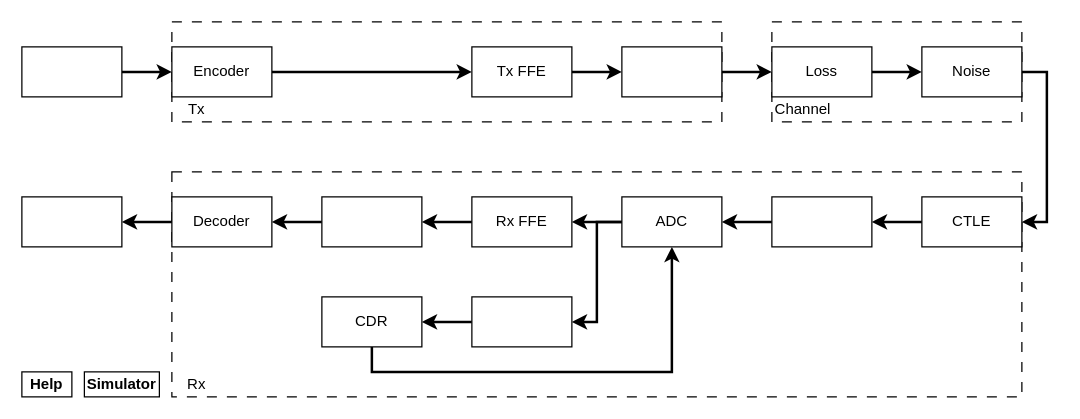
The diagram is 1080 pixels wide and 419 high, and some of its shapes have lost their labels. Each missing label, with the centre of its shape:
"CDR FFE" belongs at point 521,321.
"DAC" belongs at point 671,71.
"MLSD/DFE" belongs at point 371,221.
"PRBS Checker" belongs at point 71,221.
"PRBS Generator" belongs at point 71,71.
"VGA" belongs at point 821,221.
